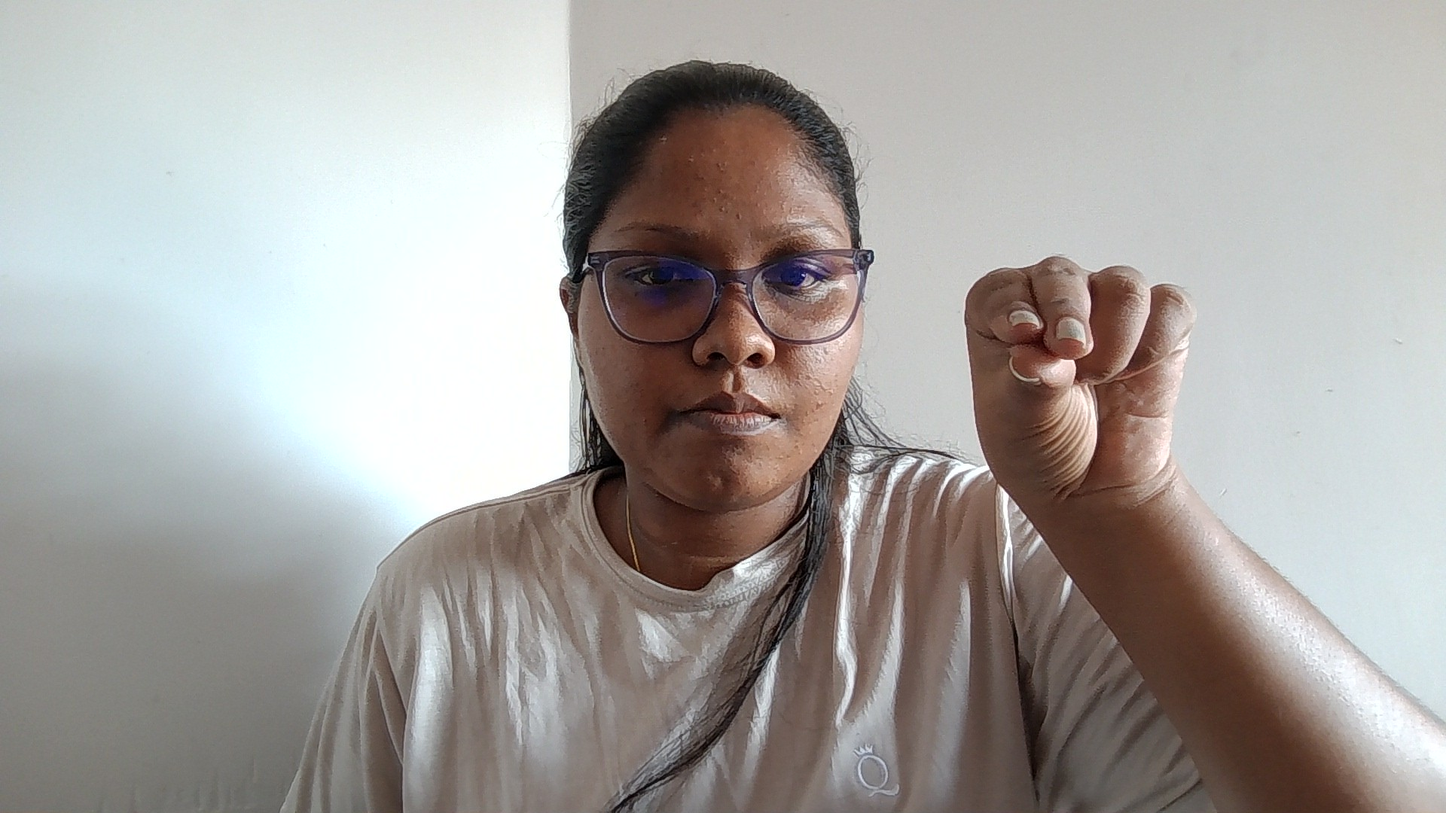No: (962, 219, 1211, 737)
